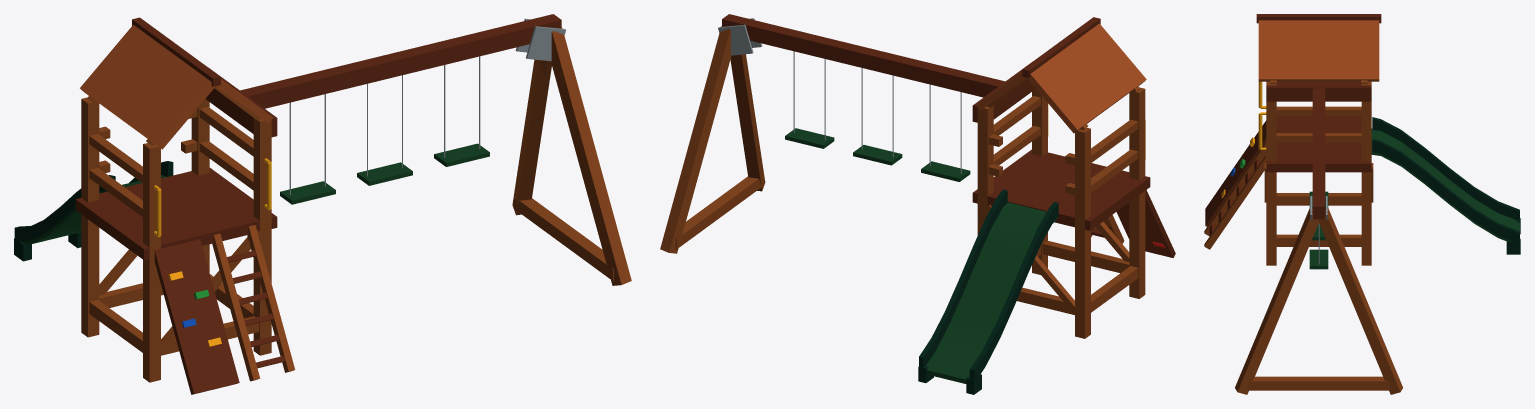
3 renders of one model, left to right at view 1: azimuth 30°, elevation 25°; view 2: azimuth 150°, elevation 25°; view 3: azimuth 270°, elevation 25°, orthographic. The views are drawn at different scales.
Visible parts, largest first — view 1: /Asset/Links/tower_frame/Visuals/roof_left/Geom, /Asset/Links/tower_frame/Visuals/deck/Geom, /Asset/Links/swing_frame/Visuals/top_beam/Geom, /Asset/Links/tower_frame/Visuals/climbing_wall/Geom, /Asset/Links/swing_frame/Visuals/far_front_leg/Geom, /Asset/Links/tower_frame/Visuals/tower_post__2_18__0_61/Geom, /Asset/Links/tower_frame/Visuals/tower_post__2_18__0_61_2/Ge, /Asset/Links/tower_frame/Visuals/tower_post__0_92__0_61/Geom, /Asset/Links/swing_frame/Visuals/far_rear_leg/Geom, /Asset/Links/swing_frame/Visuals/far_ground_spreader/Geom, /Asset/Links/tower_frame/Visuals/ladder_left_rail/Geom, /Asset/Links/tower_frame/Visuals/ladder_right_rail/Geom (+18 smaller); view 2: /Asset/Links/slide/Visuals/slide_bed/Geom/mesh, /Asset/Links/tower_frame/Visuals/roof_left/Geom, /Asset/Links/tower_frame/Visuals/deck/Geom, /Asset/Links/swing_frame/Visuals/top_beam/Geom, /Asset/Links/swing_frame/Visuals/far_rear_leg/Geom, /Asset/Links/tower_frame/Visuals/tower_post__2_18__0_61_2/Ge, /Asset/Links/tower_frame/Visuals/tower_post__2_18__0_61/Geom, /Asset/Links/swing_frame/Visuals/far_front_leg/Geom, /Asset/Links/slide/Visuals/slide_left_rail/Geom/mesh, /Asset/Links/slide/Visuals/slide_right_rail/Geom/mesh, /Asset/Links/tower_frame/Visuals/tower_post__0_92__0_61_2/Ge, /Asset/Links/swing_frame/Visuals/far_ground_spreader/Geom (+17 smaller); view 3: /Asset/Links/tower_frame/Visuals/roof_right/Geom, /Asset/Links/tower_frame/Visuals/deck/Geom, /Asset/Links/swing_frame/Visuals/far_rear_leg/Geom, /Asset/Links/swing_frame/Visuals/far_front_leg/Geom, /Asset/Links/swing_frame/Visuals/far_ground_spreader/Geom, /Asset/Links/slide/Visuals/slide_right_rail/Geom/mesh, /Asset/Links/slide/Visuals/slide_bed/Geom/mesh, /Asset/Links/tower_frame/Visuals/tower_header/Geom, /Asset/Links/slide/Visuals/slide_left_rail/Geom/mesh, /Asset/Links/swing_frame/Visuals/top_beam/Geom, /Asset/Links/tower_frame/Visuals/tower_post__0_92__0_61/Geom, /Asset/Links/tower_frame/Visuals/tower_post__0_92__0_61_2/Ge (+9 smaller).
Boxes of the visible parts, x1,y1,x2,y2 form: /Asset/Links/tower_frame/Visuals/roof_left/Geom: (80,24,215,149); /Asset/Links/tower_frame/Visuals/deck/Geom: (75,168,277,260); /Asset/Links/swing_frame/Visuals/top_beam/Geom: (240,14,561,108); /Asset/Links/tower_frame/Visuals/climbing_wall/Geom: (154,239,239,394); /Asset/Links/swing_frame/Visuals/far_front_leg/Geom: (551,28,631,285); /Asset/Links/tower_frame/Visuals/tower_post__2_18__0_61/Geom: (143,143,160,382); /Asset/Links/tower_frame/Visuals/tower_post__2_18__0_61_2/Ge: (81,97,99,337); /Asset/Links/tower_frame/Visuals/tower_post__0_92__0_61/Geom: (253,118,271,355); /Asset/Links/swing_frame/Visuals/far_rear_leg/Geom: (512,59,551,215); /Asset/Links/swing_frame/Visuals/far_ground_spreader/Geom: (514,197,613,280); /Asset/Links/tower_frame/Visuals/ladder_left_rail/Geom: (212,233,260,381); /Asset/Links/tower_frame/Visuals/ladder_right_rail/Geom: (247,225,295,372); /Asset/Links/slide/Visuals/slide_bed/Geom/mesh: (926,202,1057,383); /Asset/Links/tower_frame/Visuals/roof_left/Geom: (1027,23,1146,133); /Asset/Links/tower_frame/Visuals/deck/Geom: (972,149,1150,230); /Asset/Links/swing_frame/Visuals/top_beam/Geom: (722,14,1004,97); /Asset/Links/swing_frame/Visuals/far_rear_leg/Geom: (660,26,731,253); /Asset/Links/tower_frame/Visuals/tower_post__2_18__0_61_2/Ge: (1075,127,1090,338); /Asset/Links/tower_frame/Visuals/tower_post__2_18__0_61/Geom: (1129,87,1145,298); /Asset/Links/swing_frame/Visuals/far_front_leg/Geom: (730,54,765,191); /Asset/Links/slide/Visuals/slide_left_rail/Geom/mesh: (969,202,1058,379); /Asset/Links/slide/Visuals/slide_right_rail/Geom/mesh: (919,189,1007,367); /Asset/Links/tower_frame/Visuals/tower_post__0_92__0_61_2/Ge: (977,105,993,235); /Asset/Links/swing_frame/Visuals/far_ground_spreader/Geom: (675,175,763,249); /Asset/Links/tower_frame/Visuals/roof_right/Geom: (1258,20,1379,81); /Asset/Links/tower_frame/Visuals/deck/Geom: (1266,116,1371,172); /Asset/Links/swing_frame/Visuals/far_rear_leg/Geom: (1319,208,1402,394); /Asset/Links/swing_frame/Visuals/far_front_leg/Geom: (1235,208,1318,394); /Asset/Links/swing_frame/Visuals/far_ground_spreader/Geom: (1248,376,1389,390); /Asset/Links/slide/Visuals/slide_right_rail/Geom/mesh: (1372,139,1519,241); /Asset/Links/slide/Visuals/slide_bed/Geom/mesh: (1371,128,1519,241); /Asset/Links/tower_frame/Visuals/tower_header/Geom: (1266,81,1371,101); /Asset/Links/slide/Visuals/slide_left_rail/Geom/mesh: (1372,117,1519,219); /Asset/Links/swing_frame/Visuals/top_beam/Geom: (1312,88,1325,219); /Asset/Links/tower_frame/Visuals/tower_post__0_92__0_61/Geom: (1266,81,1276,265); /Asset/Links/tower_frame/Visuals/tower_post__0_92__0_61_2/Ge: (1361,81,1371,265).
Bounding box in the file's own units: 5.35 × 3.24 × 4.06.
